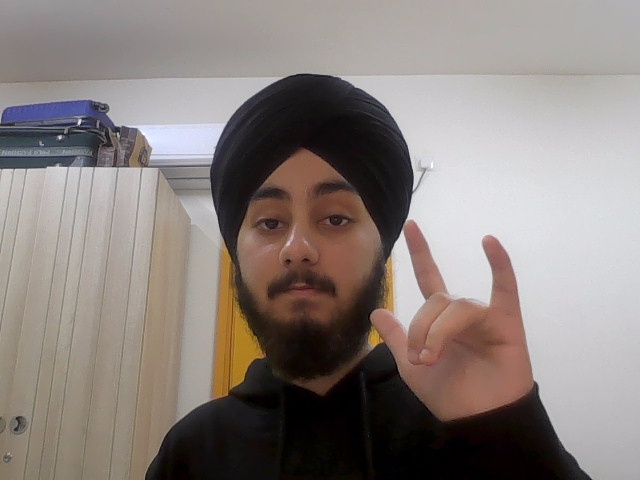ILoveYou: (362, 219, 582, 420)
